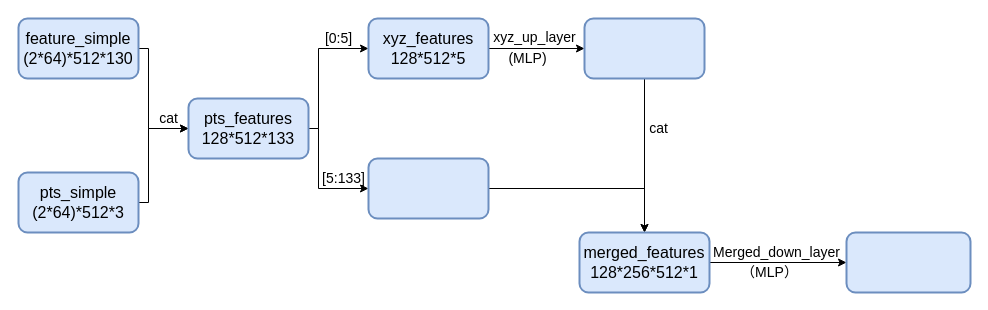
The diagram is 988 pixels wide and 310 high, and some of its shapes have lost their labels. Each missing label, with the box of its shape:
merged_features 128*128*512: (845, 231, 971, 293)
rpn_features 128*128*512*1: (367, 157, 489, 219)
xyz_features 128*128*512*1: (583, 17, 705, 79)
